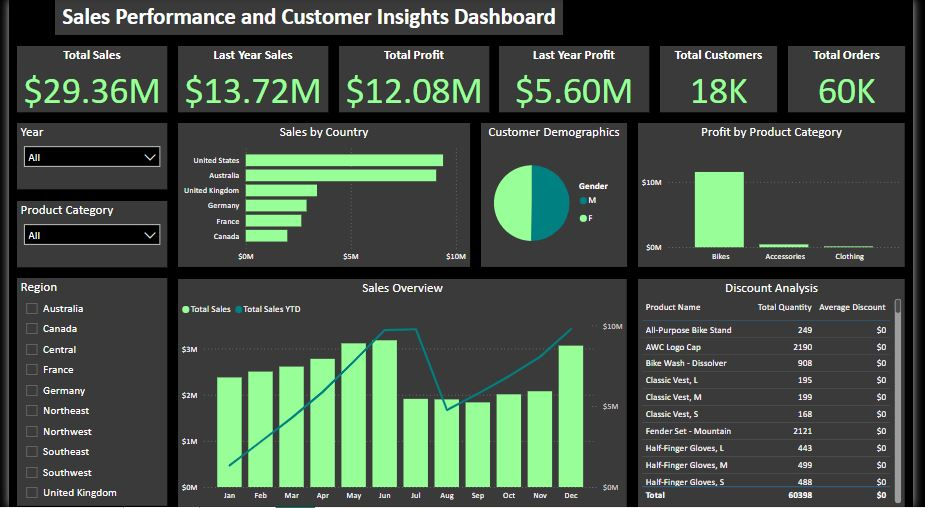

What the dashboard file says about the page in this screenshot:
{"tool":"powerbi","page":{"name":"Page 1","canvas":[1280,720],"ordinal":0},"visuals":[{"type":"textbox","box":[65.2,0,720,51],"z":0},{"type":"card","title":"Total Sales","fields":{"Values":["CalculatedTable.Total Sales"]},"box":[11.3,67,212.6,93.5],"z":2000},{"type":"card","title":"Total Orders","fields":{"Values":["CalculatedTable.Total Orders"]},"box":[1104.1,66.6,165.8,93.5],"z":3000},{"type":"card","title":"Total Profit","fields":{"Values":["CalculatedTable.Total Profit"]},"box":[467.1,66.6,212.6,93.5],"z":4000},{"type":"card","title":"Total Customers","fields":{"Values":["CalculatedTable.Total Customers"]},"box":[923,66.6,165.8,93.5],"z":5000},{"type":"card","title":"Last Year Sales","fields":{"Values":["CalculatedTable.Last Year Sales"]},"box":[239.2,66.6,212.6,93.5],"z":6000},{"type":"card","title":"Last Year Profit","fields":{"Values":["CalculatedTable.Last Year Profit"]},"box":[695.1,66.6,212.6,93.5],"z":7000},{"type":"slicer","title":"Year","fields":{"Values":["Calendar.Year"]},"box":[11.3,176.5,212.6,93.5],"z":8000},{"type":"slicer","title":"Region","fields":{"Values":["Sales.Territories.Region"]},"box":[11.3,395.4,212.6,323.1],"z":9000},{"type":"slicer","title":"Product Category","fields":{"Values":["ProductCategories.Category"]},"box":[11.3,285.9,212.6,93.5],"z":10000},{"type":"clusteredColumnChart","title":"Profit by Product Category","fields":{"Category":["ProductCategories.Category"],"Y":["CalculatedTable.Total Profit"]},"box":[891.5,175.7,378.4,204.1],"z":11000},{"type":"clusteredBarChart","title":"Sales by Country","fields":{"Category":["Sales.Territories.Country"],"Y":["CalculatedTable.Total Sales"]},"box":[239.5,175.7,413.9,204.1],"z":12000},{"type":"lineClusteredColumnComboChart","title":"Sales Overview","fields":{"Category":["Calendar.Year","Calendar.Quarter","Calendar.Month","Calendar.Date"],"Y":["CalculatedTable.Total Sales"],"Y2":["CalculatedTable.Total Sales YTD"]},"box":[239.5,396.9,636.4,323.1],"z":13000},{"type":"pieChart","title":"Customer Demographics","fields":{"Y":["CountNonNull(Sales.CustomerKey)"],"Category":["Customers.Gender"]},"box":[669,175.7,206.9,204.1],"z":14000},{"type":"tableEx","title":"Discount Analysis","fields":{"Values":["Products.EnglishProductName","CalculatedTable.Total Quantity","CalculatedTable.Average Discount"]},"box":[891.5,396.9,378.4,323.1],"z":15000}]}

Visuals, with their boxes in screenshot pixels (x1, y1, x2, y2), scaled from the page's 1280x720 canvas onto the 925x508 screenshot:
textbox: BBox(47, 0, 567, 36)
"Total Sales" card: BBox(8, 47, 162, 113)
"Total Orders" card: BBox(798, 47, 918, 113)
"Total Profit" card: BBox(338, 47, 491, 113)
"Total Customers" card: BBox(667, 47, 787, 113)
"Last Year Sales" card: BBox(173, 47, 326, 113)
"Last Year Profit" card: BBox(502, 47, 656, 113)
"Year" slicer: BBox(8, 125, 162, 190)
"Region" slicer: BBox(8, 279, 162, 507)
"Product Category" slicer: BBox(8, 202, 162, 268)
"Profit by Product Category" clusteredColumnChart: BBox(644, 124, 918, 268)
"Sales by Country" clusteredBarChart: BBox(173, 124, 472, 268)
"Sales Overview" lineClusteredColumnComboChart: BBox(173, 280, 633, 507)
"Customer Demographics" pieChart: BBox(483, 124, 633, 268)
"Discount Analysis" tableEx: BBox(644, 280, 918, 507)
